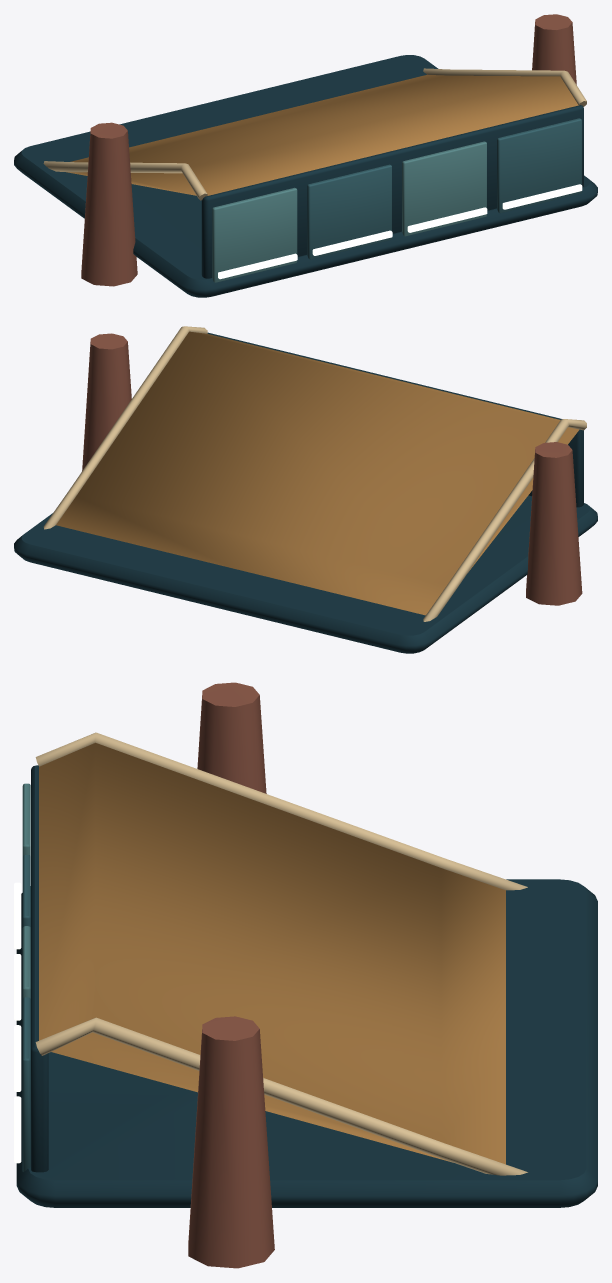
File: cafe_works_3.glb
3 renders of one model, top to bottom at view 1: azimuth 30°, elevation 25°; view 2: azimuth 150°, elevation 25°; view 3: azimuth 270°, elevation 25°, orthographic. The views are drawn at different scales.
Parts seen in each view (by area): view 1: CafeWorks3; view 2: CafeWorks3; view 3: CafeWorks3.
Boxes of the visible parts, left/top/right/bottom form: CafeWorks3: left=14, top=14, right=597, bottom=297; CafeWorks3: left=14, top=326, right=597, bottom=653; CafeWorks3: left=14, top=682, right=597, bottom=1268.
Size of the model in its own units: 2.73 by 0.76 by 1.82.
